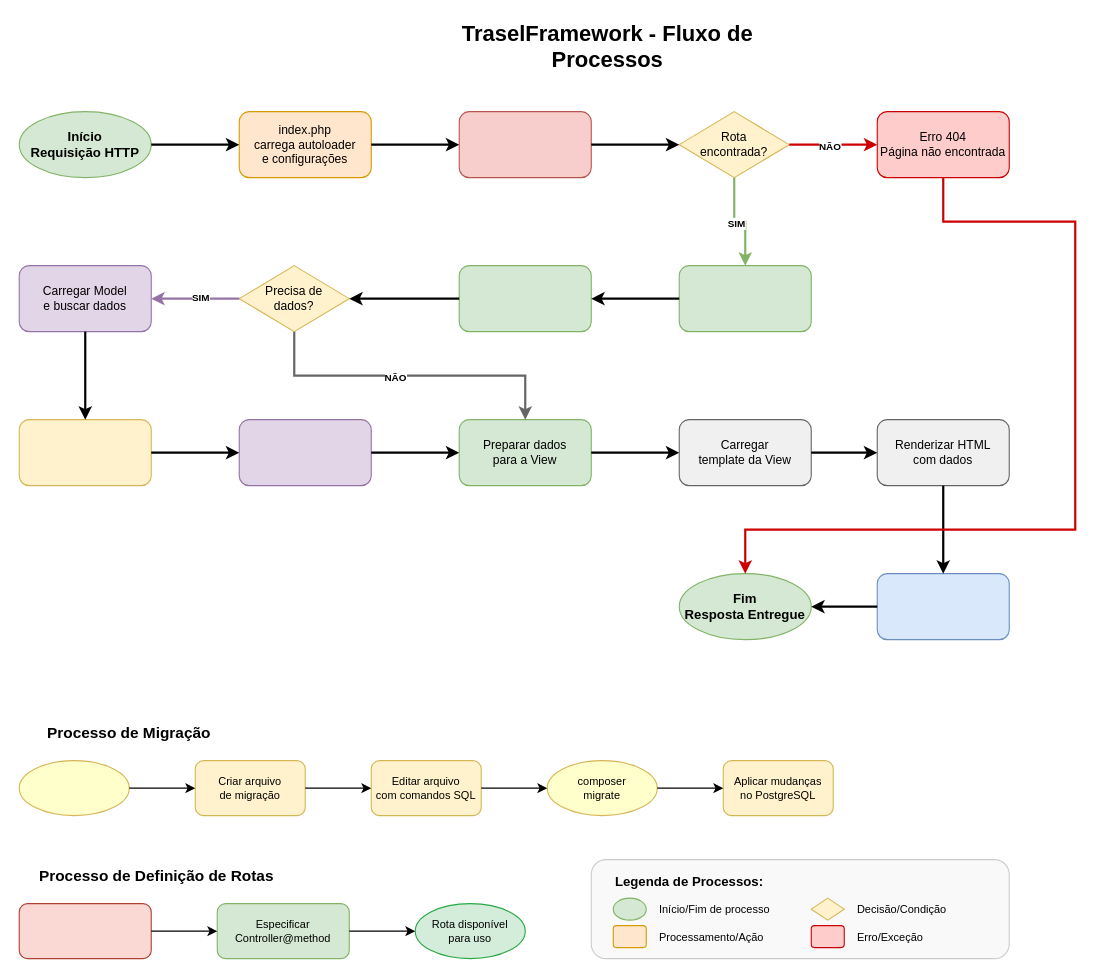
Image size: 1104x978. Some labels were removed from this diagram. The shapes that lost their labels are listed below. From the top down, each one's centre as x and y in pixels, then its label:
At pixel 524 144: "Router analisa URL e método HTTP".
At pixel 524 298: "Executar método do Controller".
At pixel 744 298: "Carregar Controller correspondente".
At pixel 84 452: "Consulta ao PostgreSQL".
At pixel 304 452: "Processar e validar dados".
At pixel 942 606: "Enviar resposta HTTP ao cliente".
At pixel 73 788: "composer make:migration".
At pixel 84 931: "Definir rota em web.php/api.php".
